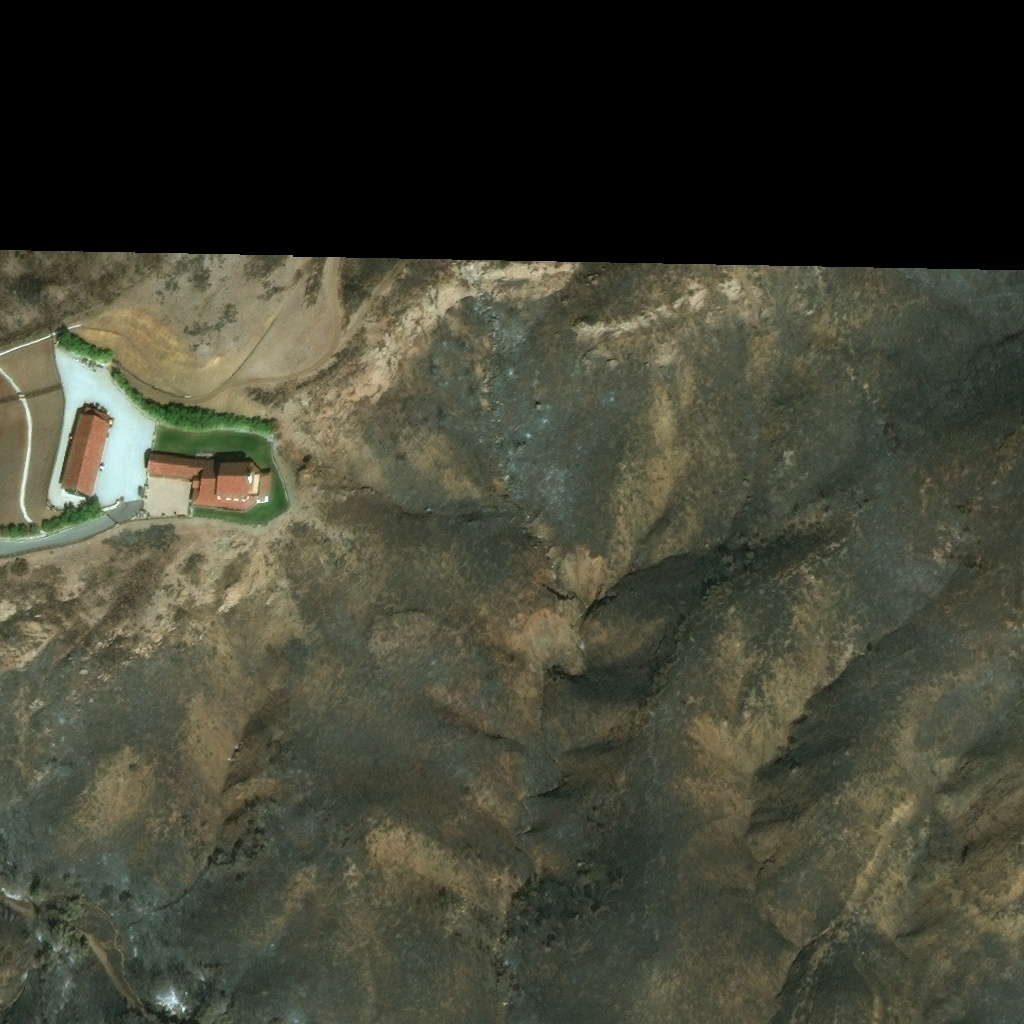0 no-damage: (147, 451, 271, 514), (57, 404, 112, 499)
